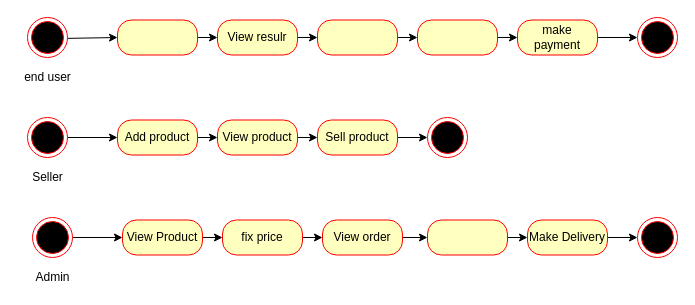
This 695x305 diagram has some shape labels left out. The centre of each missing label's shape, as x and y in pixels:
Confirm order: the point at 467,237
Make Order: the point at 457,37
Search: the point at 157,37
Select one: the point at 357,37
